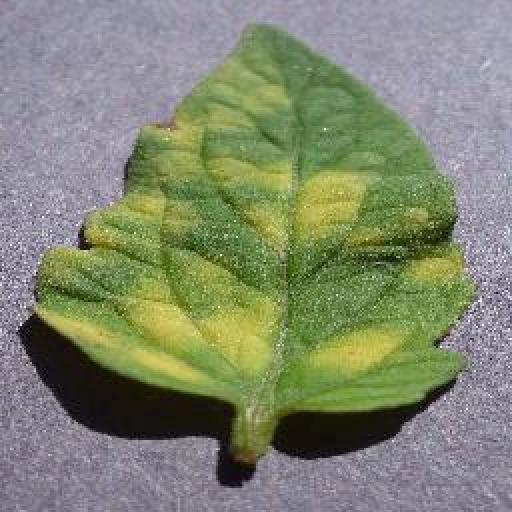disease_tomato: (31, 16, 475, 416)
